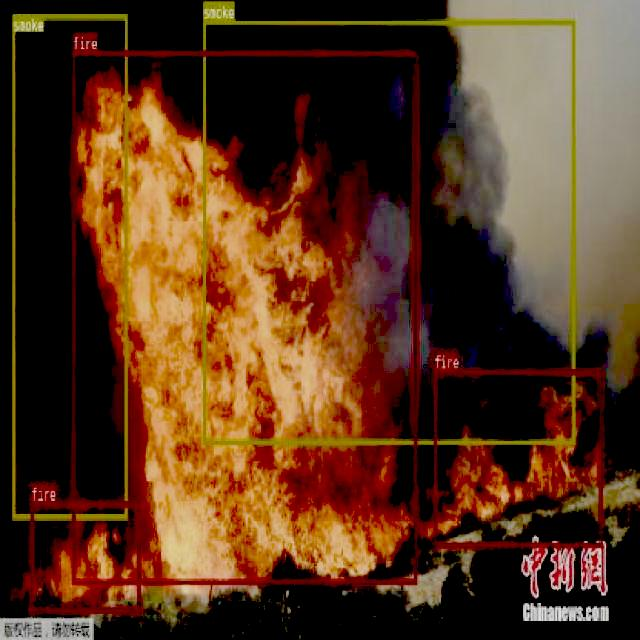fire: (71, 50, 416, 584), (434, 368, 602, 547), (30, 501, 139, 612)
smoke: (202, 19, 575, 444), (11, 14, 127, 518)
